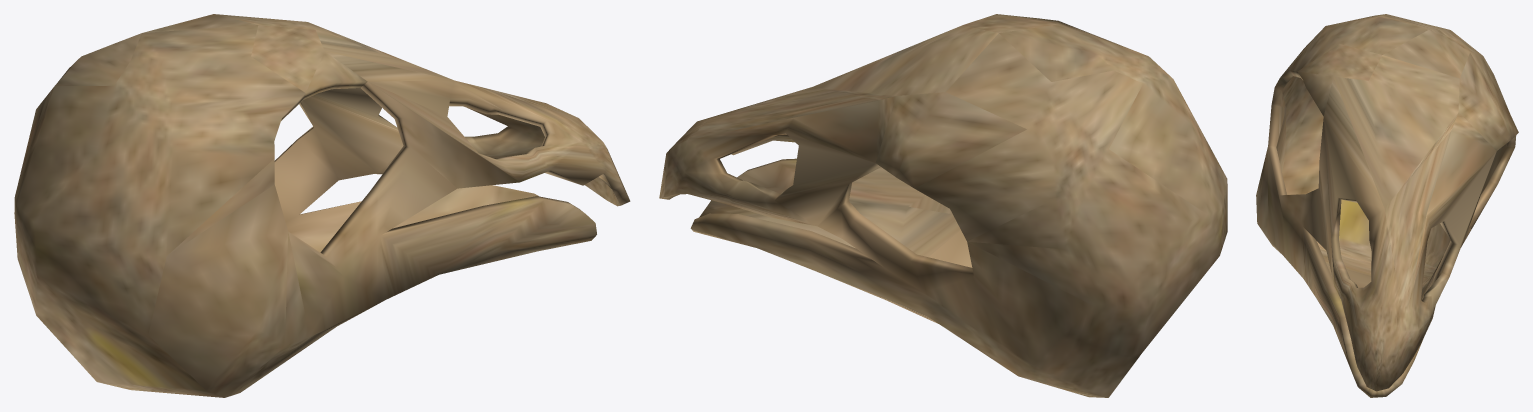
File: 07_ING_bird_head.glb
3 views of the same model, side by side, from view 1: azimuth 30°, elevation 25°; view 2: azimuth 150°, elevation 25°; view 3: azimuth 270°, elevation 25° (orthographic). The views are drawn at different scales.
Visible parts, largest first — view 1: 07_ING_bird_head; view 2: 07_ING_bird_head; view 3: 07_ING_bird_head.
Boxes of the visible parts, left/top/right/bottom form: 07_ING_bird_head: left=14, top=14, right=630, bottom=397; 07_ING_bird_head: left=659, top=14, right=1227, bottom=397; 07_ING_bird_head: left=1256, top=14, right=1518, bottom=397.
Size of the model in its own units: 0.0987 by 0.0554 by 0.0493.
1 material, 1 textured.
